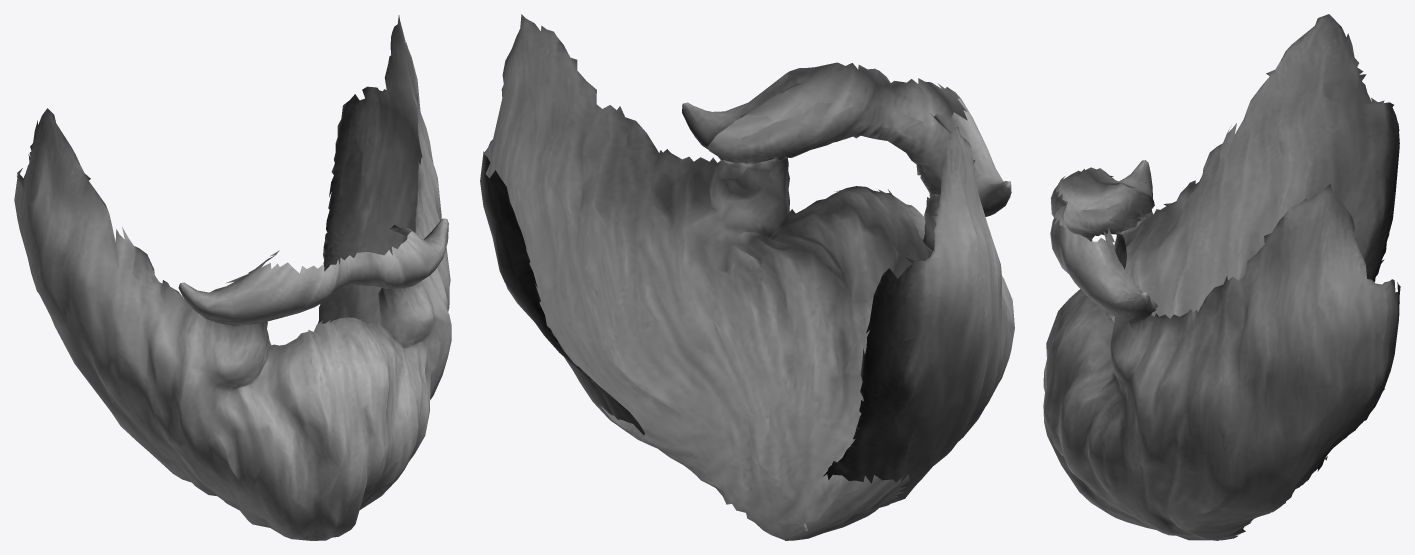
The model's file is beard_full.glb.
3 renders of one model, left to right at view 1: azimuth 30°, elevation 25°; view 2: azimuth 150°, elevation 25°; view 3: azimuth 270°, elevation 25°, orthographic. The views are drawn at different scales.
Visible parts, largest first — view 1: Hair; view 2: Hair; view 3: Hair.
Part boxes in pixels (<box>): Hair: <box>14,15,451,540</box>; Hair: <box>480,14,1014,540</box>; Hair: <box>1043,14,1400,540</box>.
Size of the model in its own units: 0.7573 by 0.7925 by 0.5823.
1 material, 1 textured.
